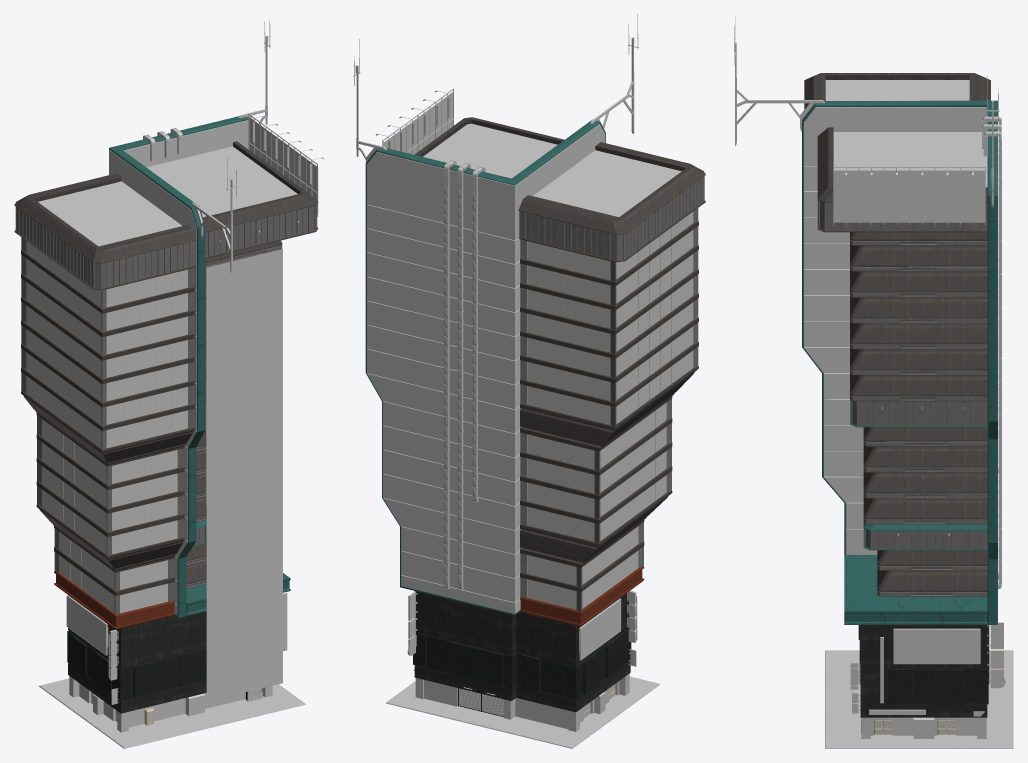
File: k70_赛博朋克_31.fbx
3 renders of one model, left to right at view 1: azimuth 30°, elevation 25°; view 2: azimuth 150°, elevation 25°; view 3: azimuth 270°, elevation 25°, orthographic. The views are drawn at different scales.
Visible parts, largest first — view 1: KB3D_CBP_Xmedia_A_Building, KB3D_CBP_Xmedia_A_HologramB, KB3D_CBP_Xmedia_A_Sidewalk, KB3D_CBP_Xmedia_A_BillboardB, KB3D_CBP_Xmedia_A_BillboardF, KB3D_CBP_Xmedia_A_AntennaD, KB3D_CBP_Xmedia_A_HvacC; view 2: KB3D_CBP_Xmedia_A_Building, KB3D_CBP_Xmedia_A_HvacC, KB3D_CBP_Xmedia_A_Sidewalk, KB3D_CBP_Xmedia_A_BillboardB, KB3D_CBP_Xmedia_A_BillboardF, KB3D_CBP_Xmedia_A_AntennaD; view 3: KB3D_CBP_Xmedia_A_Building, KB3D_CBP_Xmedia_A_BillboardB, KB3D_CBP_Xmedia_A_Sidewalk, KB3D_CBP_Xmedia_A_BillboardD, KB3D_CBP_Xmedia_A_HvacC, KB3D_CBP_Xmedia_A_BillboardC, KB3D_CBP_Xmedia_A_AntennaD.
Boxes of the visible parts, left/top/right/bottom form: KB3D_CBP_Xmedia_A_Building: left=14, top=116, right=318, bottom=732; KB3D_CBP_Xmedia_A_HologramB: left=206, top=249, right=282, bottom=700; KB3D_CBP_Xmedia_A_Sidewalk: left=39, top=678, right=305, bottom=748; KB3D_CBP_Xmedia_A_BillboardB: left=248, top=113, right=324, bottom=216; KB3D_CBP_Xmedia_A_BillboardF: left=66, top=595, right=108, bottom=655; KB3D_CBP_Xmedia_A_AntennaD: left=191, top=157, right=237, bottom=273; KB3D_CBP_Xmedia_A_HvacC: left=143, top=128, right=182, bottom=161; KB3D_CBP_Xmedia_A_Building: left=365, top=117, right=705, bottom=731; KB3D_CBP_Xmedia_A_HvacC: left=443, top=160, right=485, bottom=589; KB3D_CBP_Xmedia_A_Sidewalk: left=386, top=676, right=660, bottom=748; KB3D_CBP_Xmedia_A_BillboardB: left=376, top=88, right=453, bottom=154; KB3D_CBP_Xmedia_A_BillboardF: left=579, top=598, right=621, bottom=660; KB3D_CBP_Xmedia_A_AntennaD: left=590, top=14, right=638, bottom=133; KB3D_CBP_Xmedia_A_Building: left=802, top=73, right=997, bottom=738; KB3D_CBP_Xmedia_A_BillboardB: left=833, top=167, right=985, bottom=225; KB3D_CBP_Xmedia_A_Sidewalk: left=825, top=650, right=1013, bottom=748; KB3D_CBP_Xmedia_A_BillboardD: left=893, top=628, right=980, bottom=664; KB3D_CBP_Xmedia_A_HvacC: left=981, top=116, right=1002, bottom=589; KB3D_CBP_Xmedia_A_BillboardC: left=987, top=622, right=1005, bottom=688; KB3D_CBP_Xmedia_A_AntennaD: left=734, top=17, right=824, bottom=146.
Size of the model in its own units: 45.93 by 107 by 39.08.
